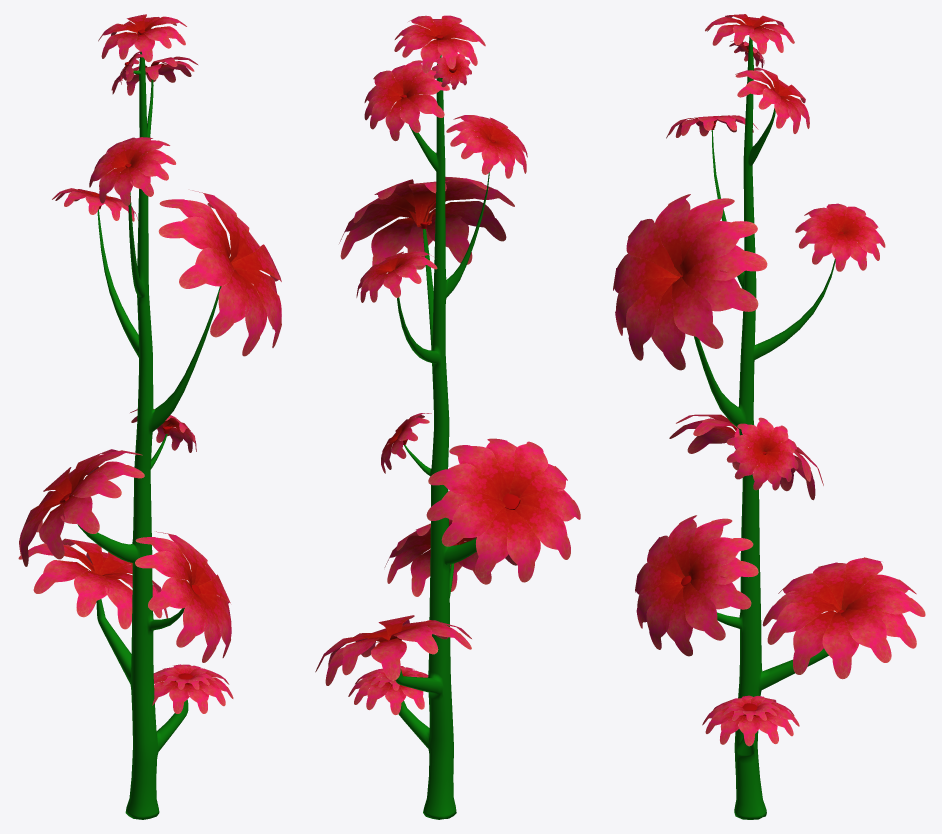
Rendered from Flower_tree_v2.fbx.
The picture shows the model from 3 angles, left to right: view 1: azimuth 30°, elevation 25°; view 2: azimuth 150°, elevation 25°; view 3: azimuth 270°, elevation 25°; orthographic projection.
Parts seen in each view (by area): view 1: pCube12; view 2: pCube12; view 3: pCube12.
Boxes of the visible parts, x1,y1,x2,y2 form: pCube12: (18, 14, 281, 819); pCube12: (315, 15, 580, 819); pCube12: (613, 14, 925, 819).
Size of the model in its own units: 6.72 by 21.29 by 7.67.
Materials: 3 (1 with a texture image).
